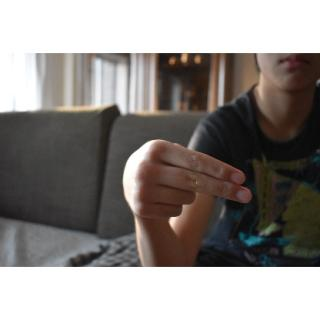AYN: (120, 137, 254, 220)
